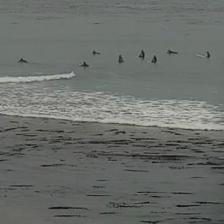surfer: (80, 61, 89, 68), (18, 58, 28, 63), (166, 50, 178, 54), (139, 50, 145, 58), (117, 54, 123, 62), (151, 56, 157, 63), (92, 50, 100, 55), (206, 51, 210, 58)
